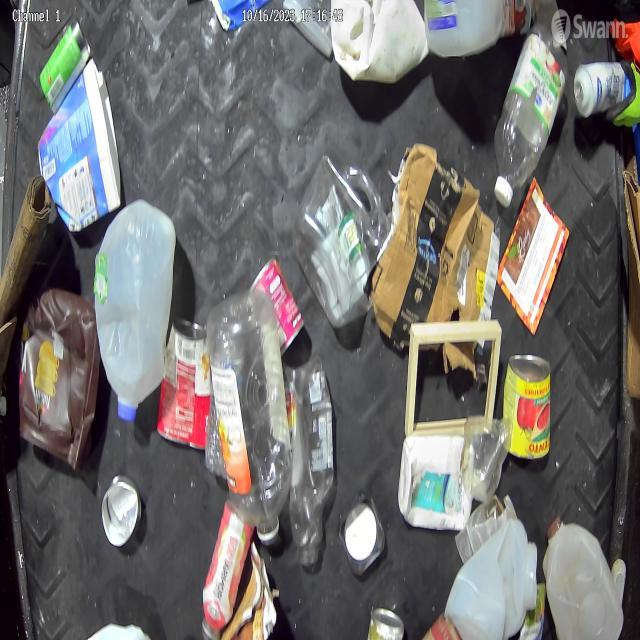can: (494, 28, 564, 215), (156, 316, 212, 450), (248, 260, 304, 356), (504, 353, 552, 463), (40, 20, 91, 111), (98, 480, 146, 550), (367, 602, 409, 640)
milk_jug: (94, 203, 178, 424), (450, 520, 540, 640), (542, 517, 628, 640), (325, 0, 432, 84), (425, 0, 519, 56)
non_white_jug: (20, 280, 100, 473)
plastic_bottle: (208, 290, 288, 540), (282, 363, 336, 576), (202, 505, 252, 640)
